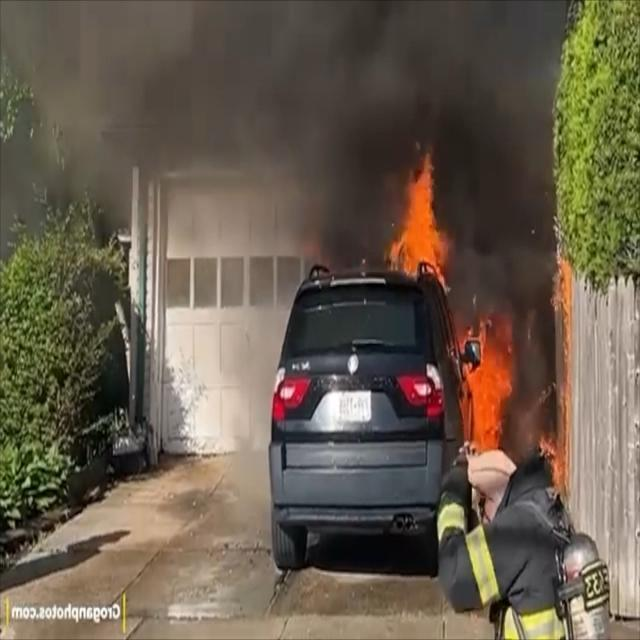fire: (394, 142, 573, 481)
